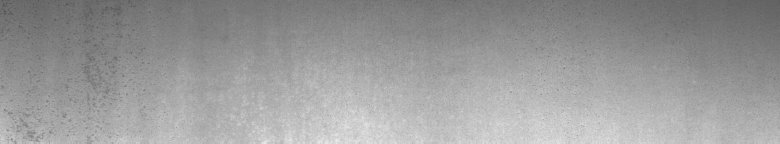ib: (4, 4, 122, 136)
